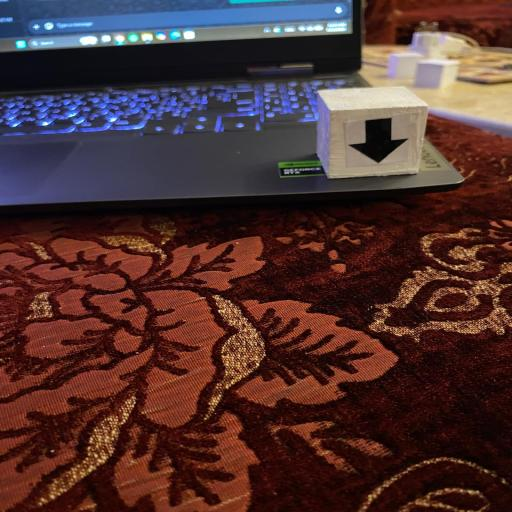Down: (312, 86, 432, 180)
